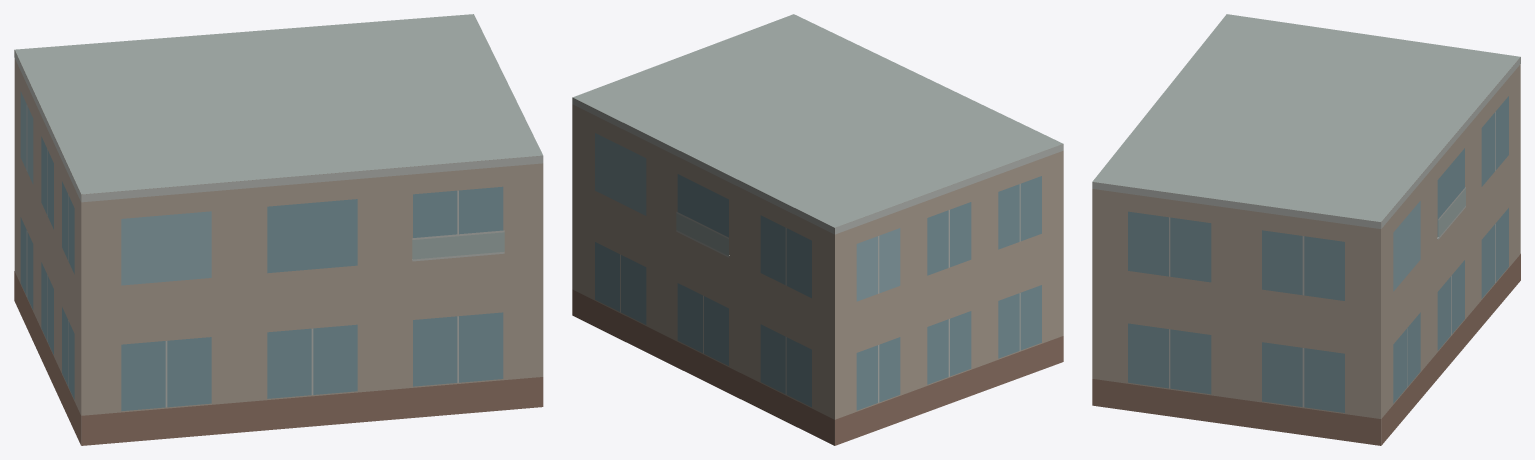
File: survey-upis-32768865.glb
3 views of the same model, side by side, from view 1: azimuth 30°, elevation 25°; view 2: azimuth 150°, elevation 25°; view 3: azimuth 270°, elevation 25° (orthographic). The views are drawn at different scales.
Visible parts, largest first — view 1: survey-upis-32768865.tmp; view 2: survey-upis-32768865.tmp; view 3: survey-upis-32768865.tmp.
Part boxes in pixels (box(x1,y1,x2,y2)): survey-upis-32768865.tmp: box(14, 14, 543, 445); survey-upis-32768865.tmp: box(572, 14, 1063, 445); survey-upis-32768865.tmp: box(1092, 14, 1520, 445).
Size of the model in its own units: 15.58 by 7.8 by 13.55.
